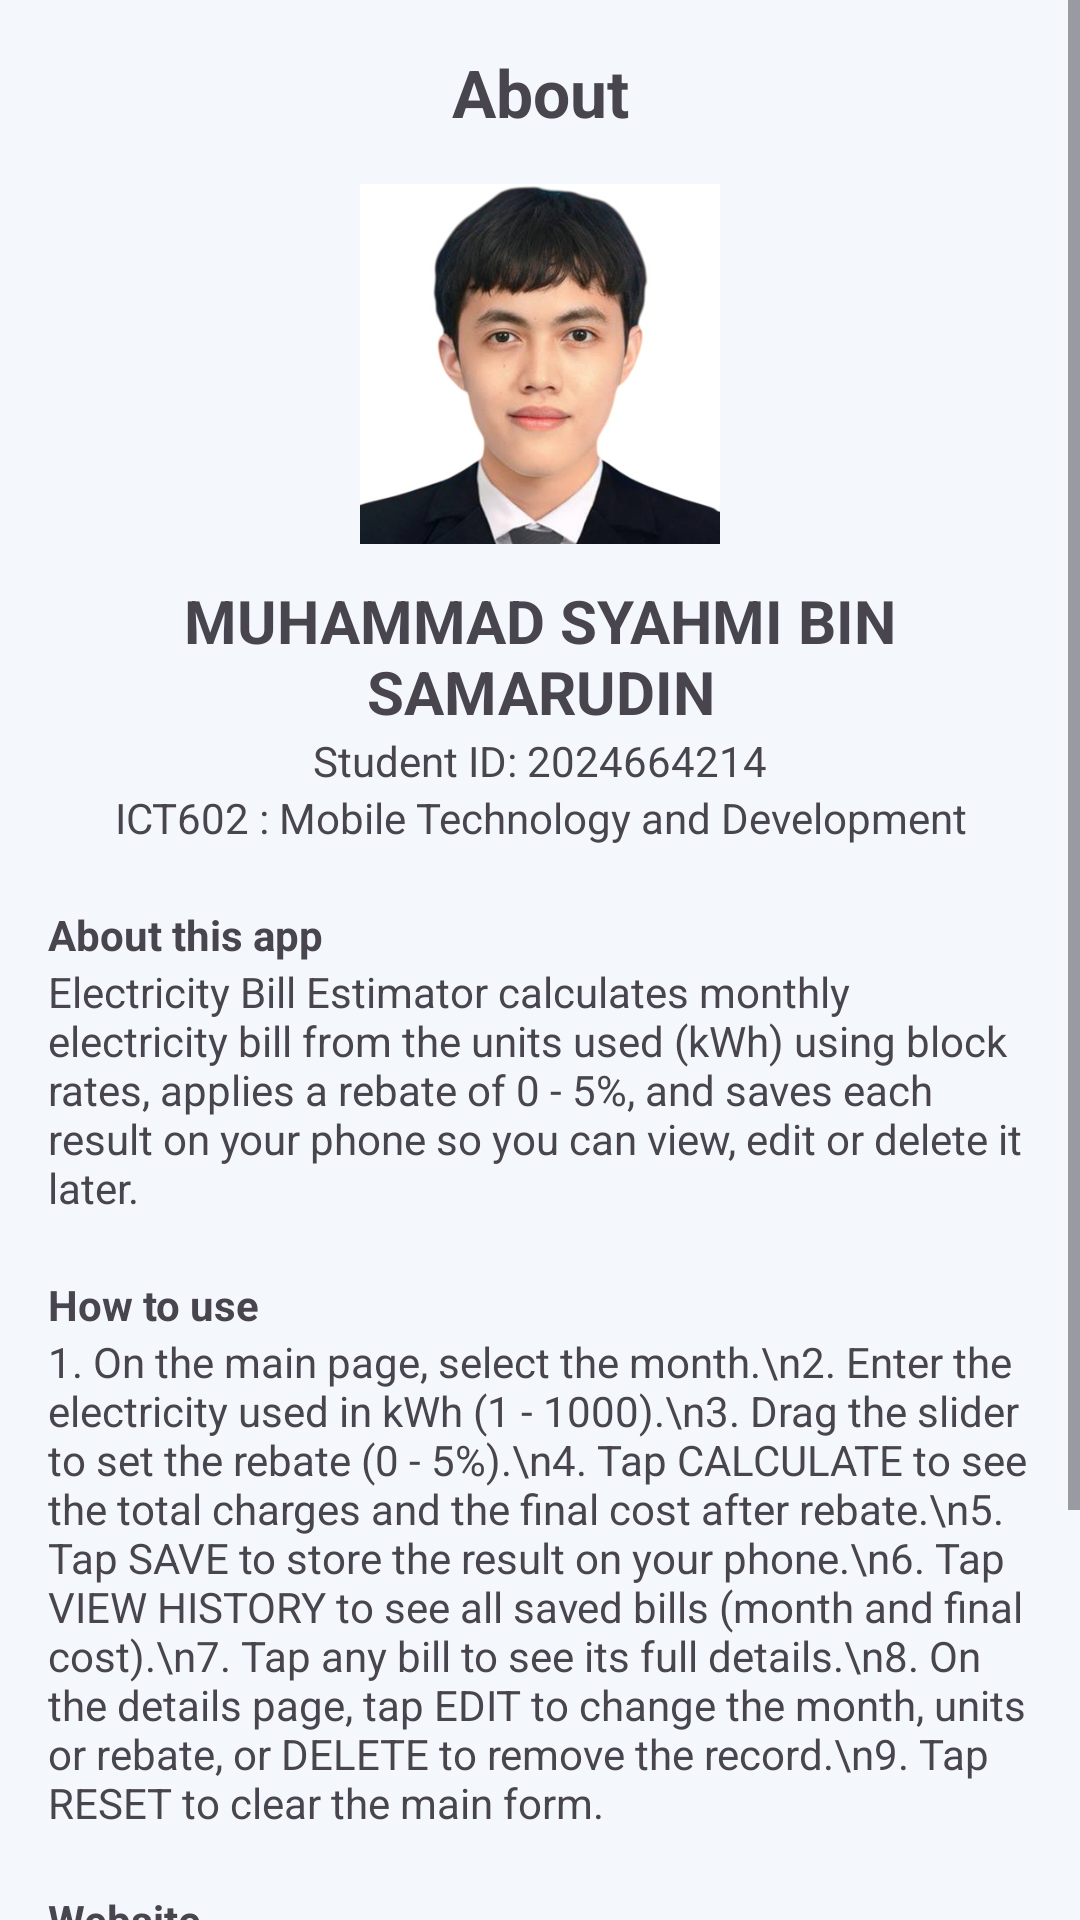

Icon click points for this 1080px x 1920px phone screenshot, format (x=x, y=y):
Student photo: (x=540, y=365)
